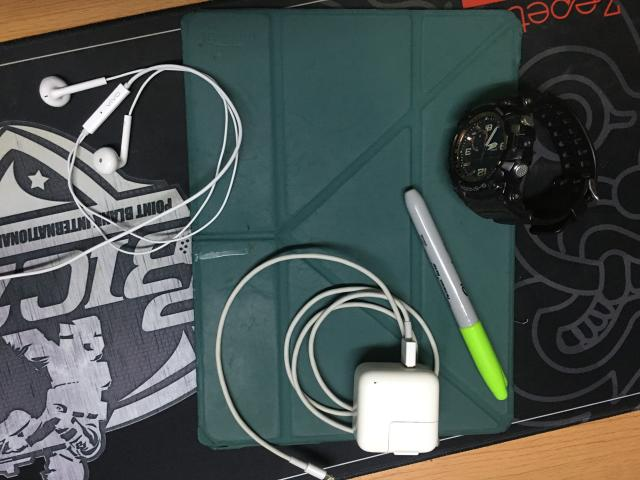Pen: (405, 189, 508, 400)
Watch: (449, 91, 598, 234)
wire: (214, 254, 440, 480), (40, 64, 242, 250)
